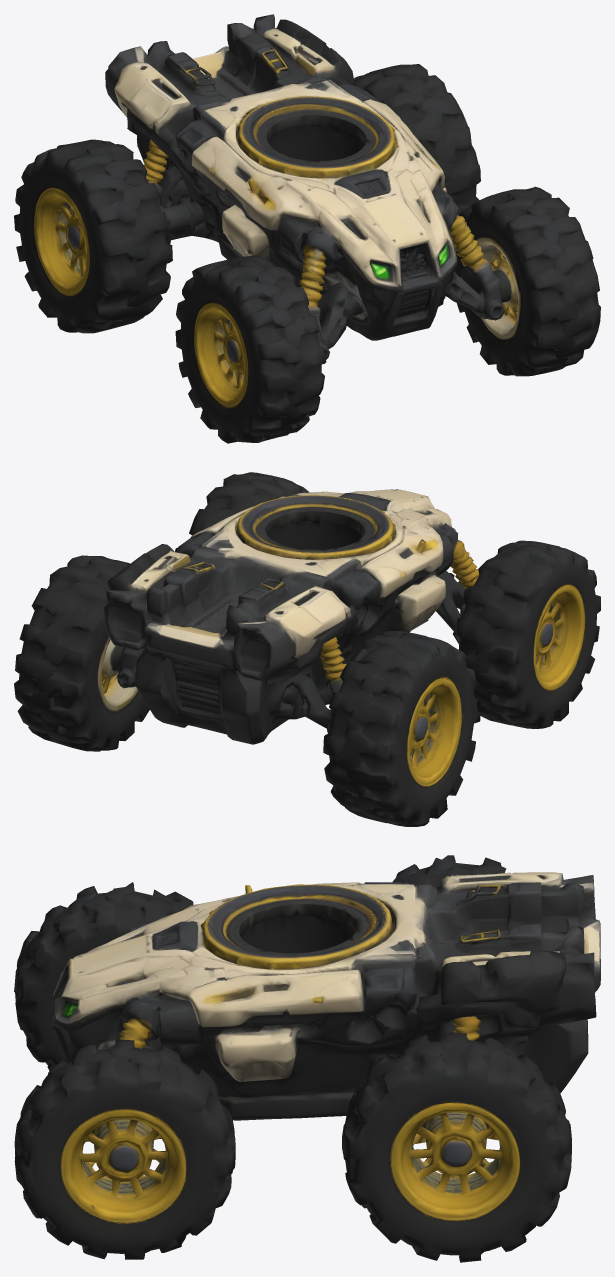
Rendered from scout_wheels.glb.
The picture shows the model from 3 angles, top to bottom: view 1: azimuth 30°, elevation 25°; view 2: azimuth 150°, elevation 25°; view 3: azimuth 270°, elevation 25°; orthographic projection. The views are drawn at different scales.
Parts seen in each view (by area): view 1: tripo_node_a0ed4030-36ca-424e-b0ae-452d5cf77c27; view 2: tripo_node_a0ed4030-36ca-424e-b0ae-452d5cf77c27; view 3: tripo_node_a0ed4030-36ca-424e-b0ae-452d5cf77c27.
Part boxes in pixels (<box>): tripo_node_a0ed4030-36ca-424e-b0ae-452d5cf77c27: <box>14,14,600,443</box>; tripo_node_a0ed4030-36ca-424e-b0ae-452d5cf77c27: <box>14,472,600,826</box>; tripo_node_a0ed4030-36ca-424e-b0ae-452d5cf77c27: <box>14,855,600,1262</box>.
Bounding box in the file's own units: 0.8857 × 0.501 × 1.
1 material, 1 textured.
